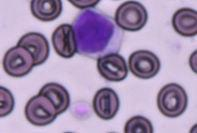L: (70, 6, 123, 58)
